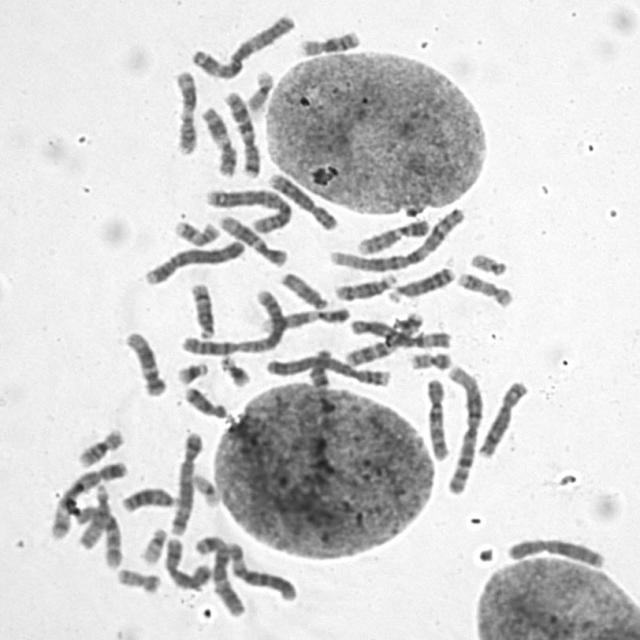A1: (324, 203, 467, 273), (442, 361, 486, 495)
A2: (176, 284, 288, 358), (202, 184, 296, 234)
A3: (187, 8, 299, 80), (189, 531, 246, 618)
B4: (140, 235, 248, 286), (262, 352, 392, 388)
B5: (44, 455, 130, 542), (166, 427, 206, 537)
C10: (74, 502, 125, 569), (422, 373, 452, 463)
C11: (198, 102, 238, 177), (170, 66, 198, 156)
C12: (214, 210, 290, 268), (122, 327, 170, 397)
C6: (223, 537, 300, 603), (347, 315, 455, 350)
C7: (342, 308, 426, 368), (220, 86, 262, 179)
C8: (266, 168, 341, 232), (474, 376, 530, 460)
C9: (353, 214, 431, 256), (258, 303, 353, 332)
D13: (386, 262, 457, 303), (119, 482, 181, 514)
D14: (332, 268, 400, 303), (187, 278, 217, 339)
D15: (75, 480, 111, 550), (278, 268, 330, 311)
E16: (74, 424, 127, 468), (296, 25, 364, 58)
E17: (454, 267, 515, 309), (170, 216, 222, 247)
E18: (181, 382, 229, 420), (308, 346, 334, 392)
F19: (244, 66, 276, 113), (188, 468, 222, 508)
F20: (113, 563, 162, 595), (406, 347, 454, 371)
G21: (217, 352, 254, 389), (173, 358, 211, 386)
G22: (136, 524, 170, 566), (467, 248, 510, 276)
X: (504, 533, 608, 570), (160, 532, 213, 591)
